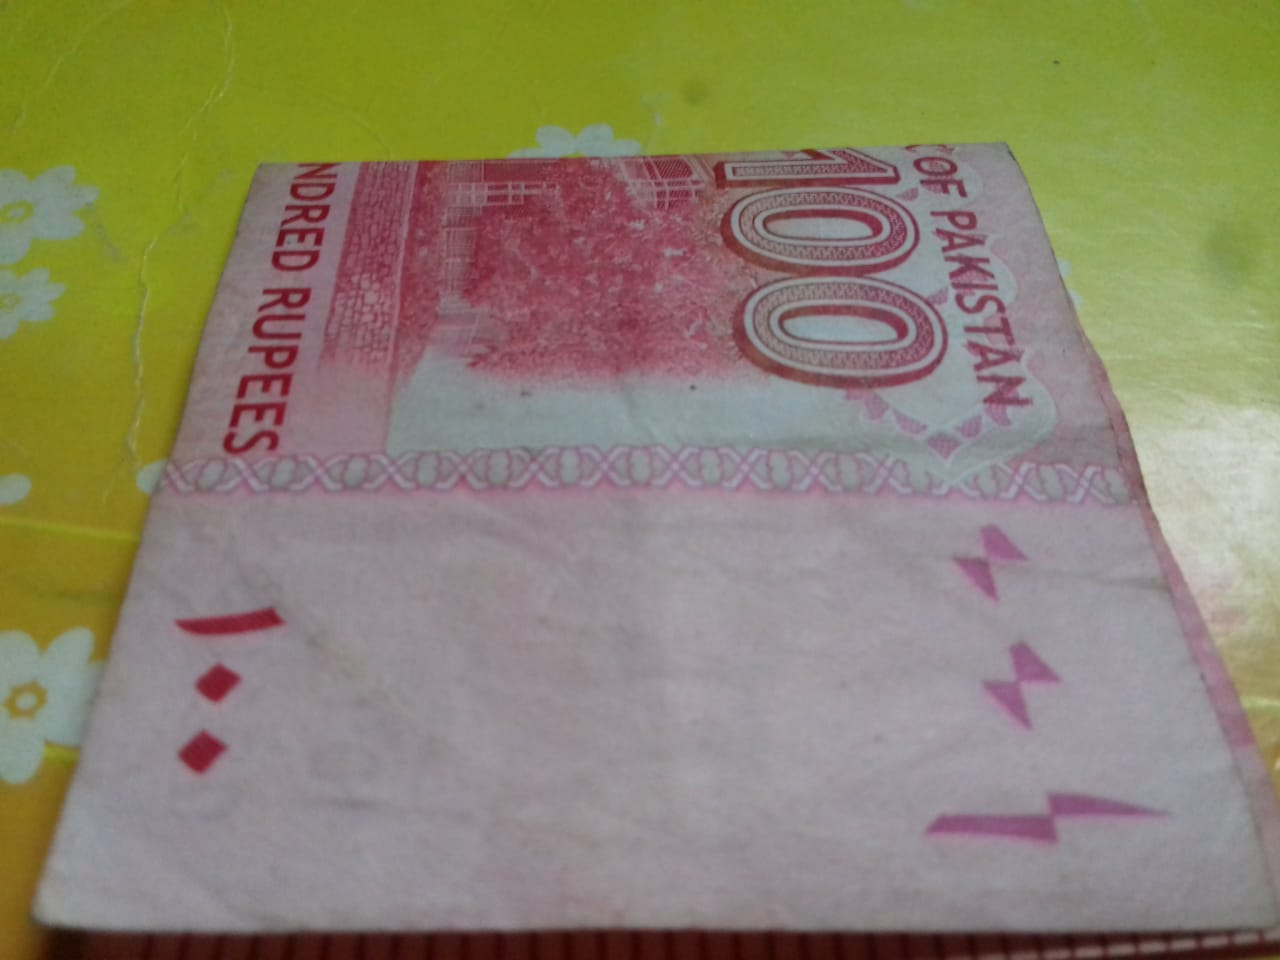100 rupee: (50, 118, 1253, 954)
